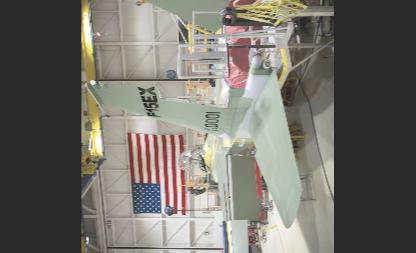F117: (85, 0, 304, 251)
